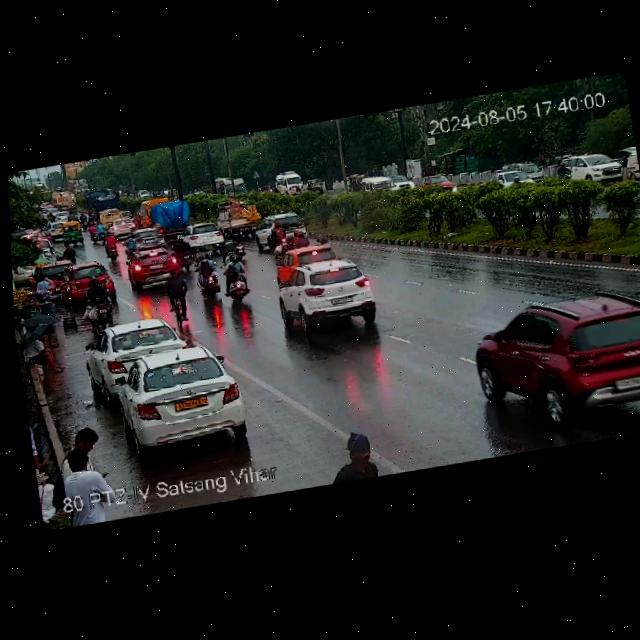bus: (134, 198, 159, 225)
car: (468, 281, 640, 429), (113, 340, 249, 454), (276, 251, 389, 337), (85, 313, 186, 383), (561, 149, 623, 188), (124, 246, 176, 291), (275, 239, 337, 271), (62, 261, 113, 298), (254, 210, 309, 243), (176, 219, 227, 252), (484, 163, 531, 190), (419, 168, 458, 195), (274, 167, 306, 197), (134, 226, 169, 253), (59, 218, 88, 248), (360, 177, 401, 197), (110, 216, 140, 239), (97, 207, 125, 226), (306, 175, 326, 196), (151, 264, 156, 270), (156, 263, 159, 264)
motorcycle: (188, 237, 254, 307), (152, 195, 199, 236), (79, 273, 118, 320), (216, 229, 249, 264), (264, 217, 295, 251), (168, 235, 195, 266), (101, 232, 121, 260), (90, 221, 110, 244)
person: (53, 419, 121, 524), (24, 319, 62, 374), (29, 270, 52, 299)
truck: (212, 197, 265, 236), (80, 184, 122, 217), (49, 186, 80, 216)
